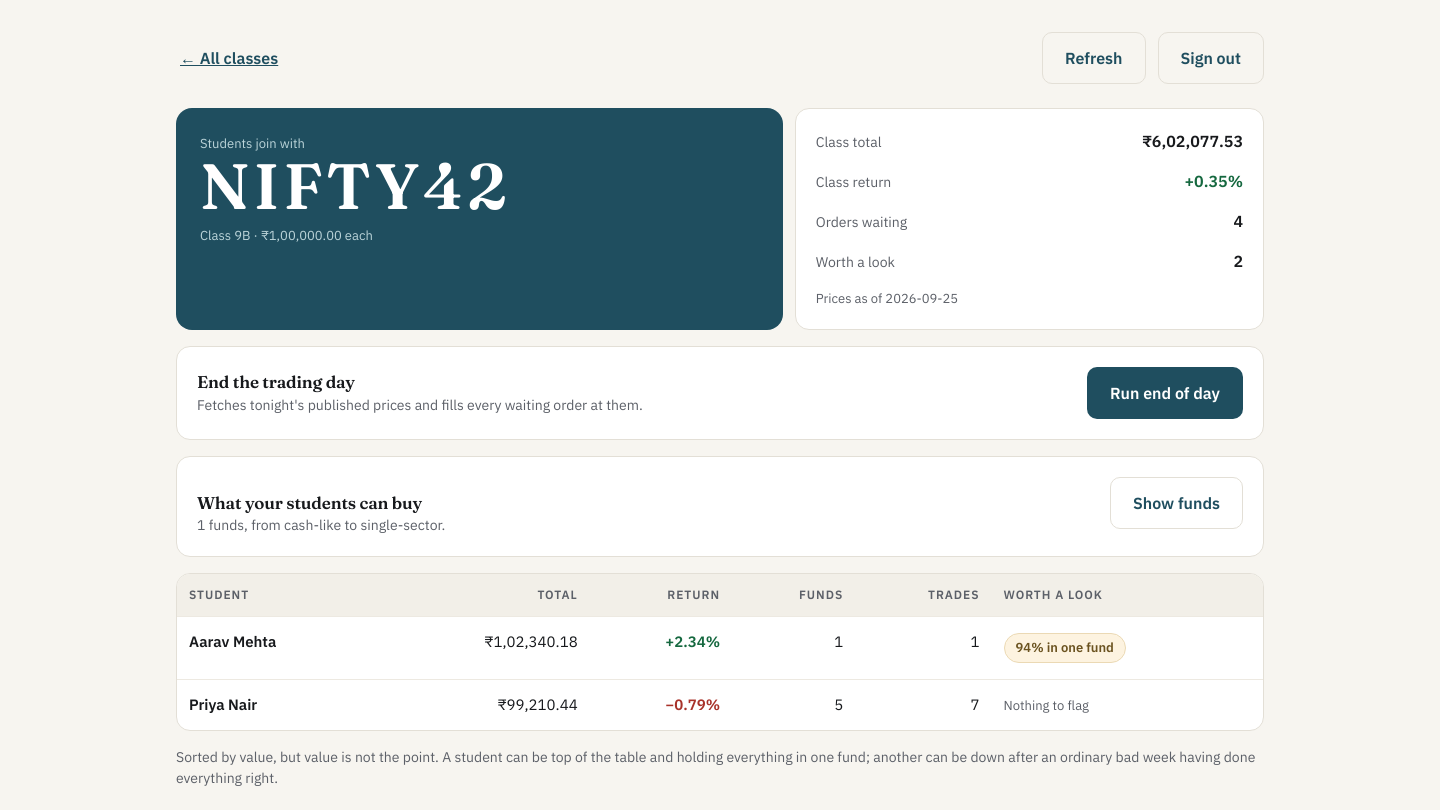
Test case: teacher dashboard › fills waiting orders when end of day is run
This screenshot has width=1440, height=810.
Click the button "Run end of day" at [1165, 392], box [1087,366,1243,418]
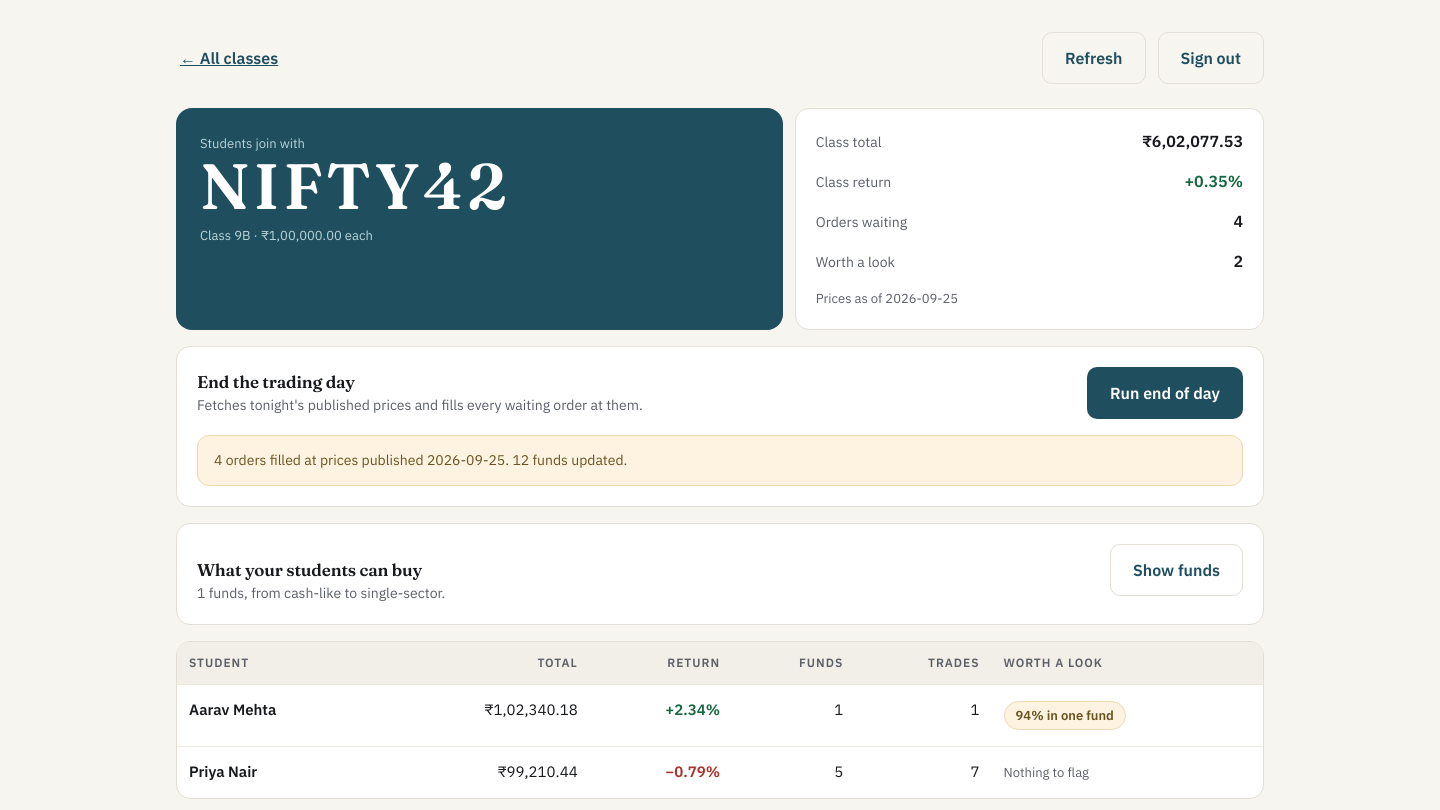
Check: the text "4 orders filled at prices published 2026-09-25" is shown, box [197,434,1243,486]
